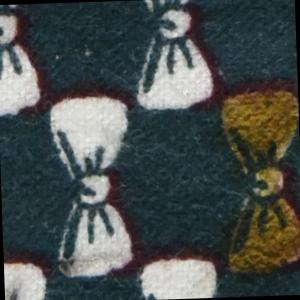Oil Stain: (216, 76, 300, 283)
